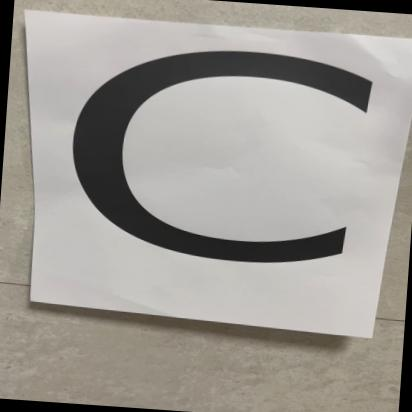seat: (38, 34, 396, 318)
